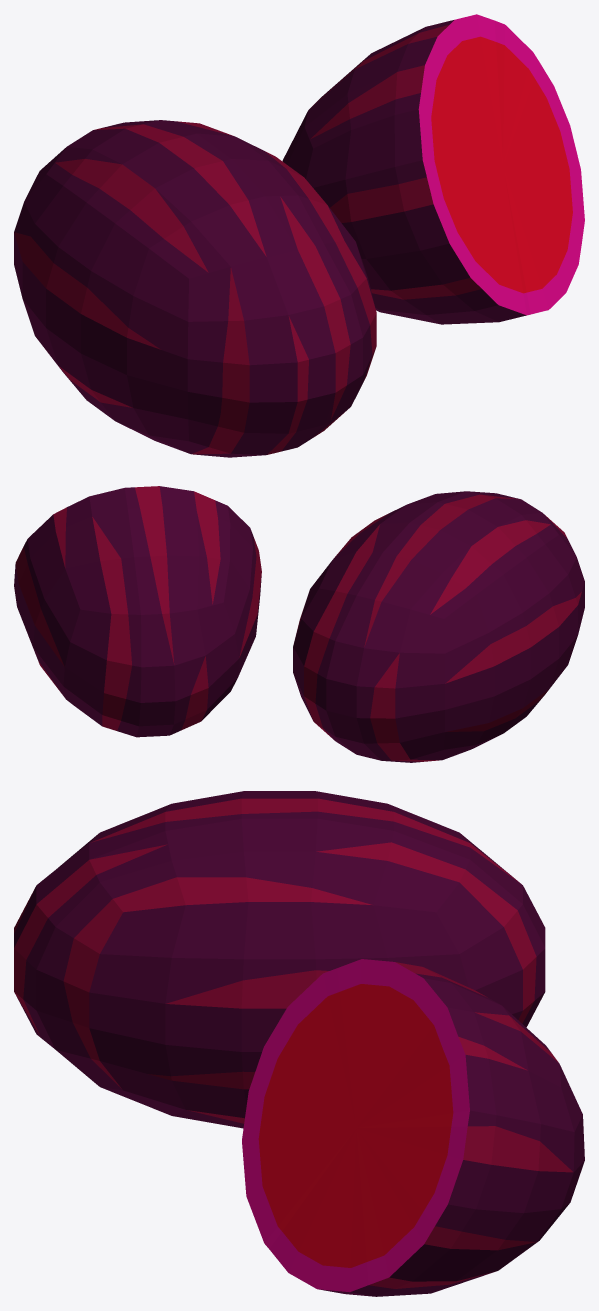
File: Watermelon_01.fbx
3 renders of one model, top to bottom at view 1: azimuth 30°, elevation 25°; view 2: azimuth 150°, elevation 25°; view 3: azimuth 270°, elevation 25°, orthographic. The views are drawn at different scales.
Parts seen in each view (by area): view 1: Watermelon_01; view 2: Watermelon_01; view 3: Watermelon_01.
Part boxes in pixels (<box>): Watermelon_01: <box>14,14,584,457</box>; Watermelon_01: <box>14,486,584,762</box>; Watermelon_01: <box>14,791,584,1296</box>.
Bounding box in the file's own units: 12.05 × 5.53 × 9.32.
